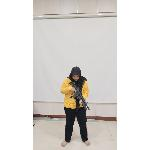Senapan: (66, 79, 96, 114)
